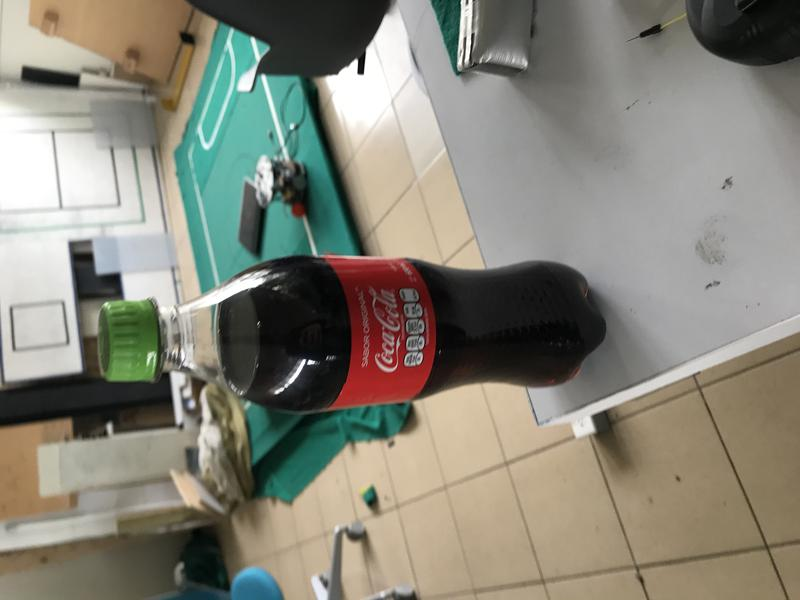coca_cola: (97, 256, 607, 414)
